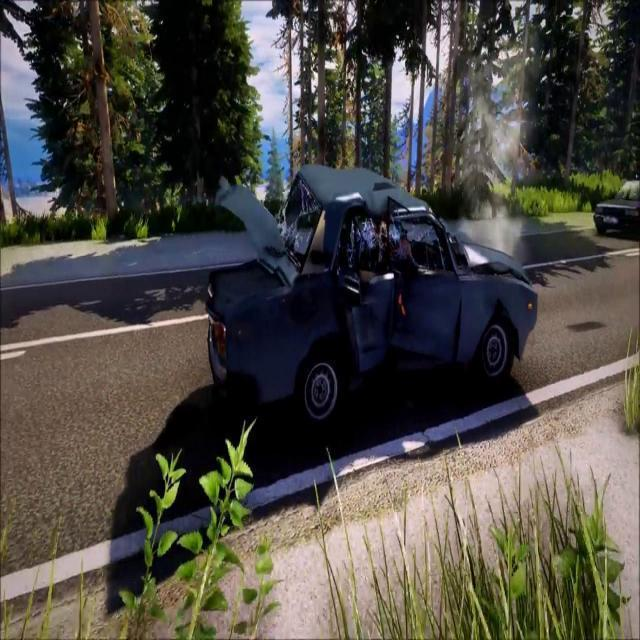multiple_accident: (202, 170, 544, 414)
